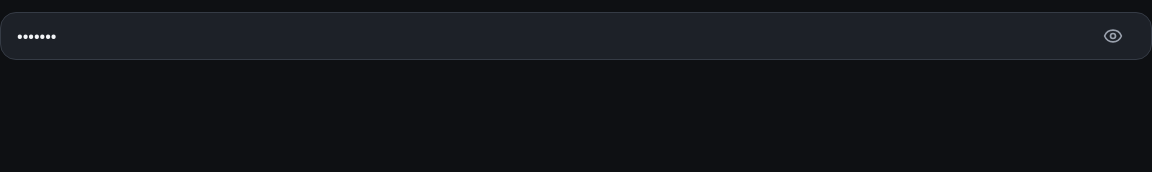
Test case: PasswordInput › shows and hides what has been typed
The image size is (1152, 172).
What coordinates should you click on to do the following:
click the button named "Show password"
I would click on:
 (1113, 36)
Its box is [1091,14,1135,58].
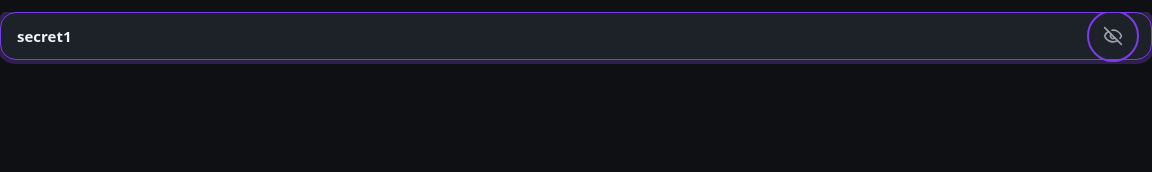
Now the field named "Password" shows its text, box [17,13,1085,59]
